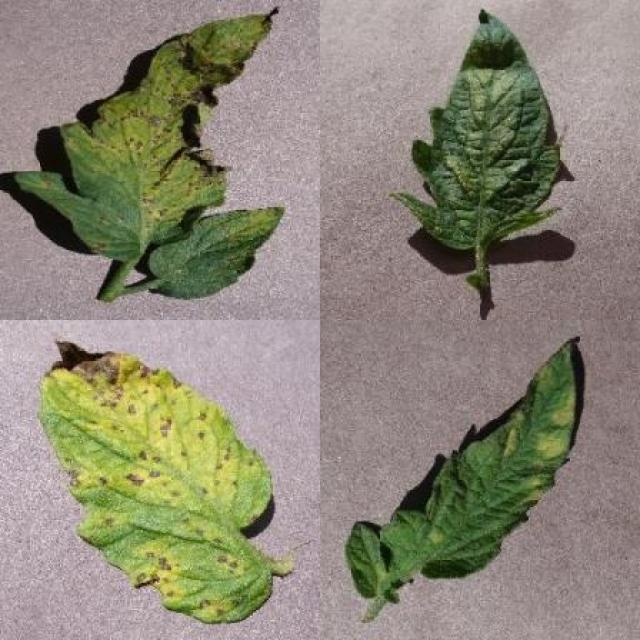Leaf Mold: (345, 340, 578, 600)
Septoria: (13, 6, 286, 261), (42, 340, 275, 623)
Spider Mites: (388, 10, 563, 249)
